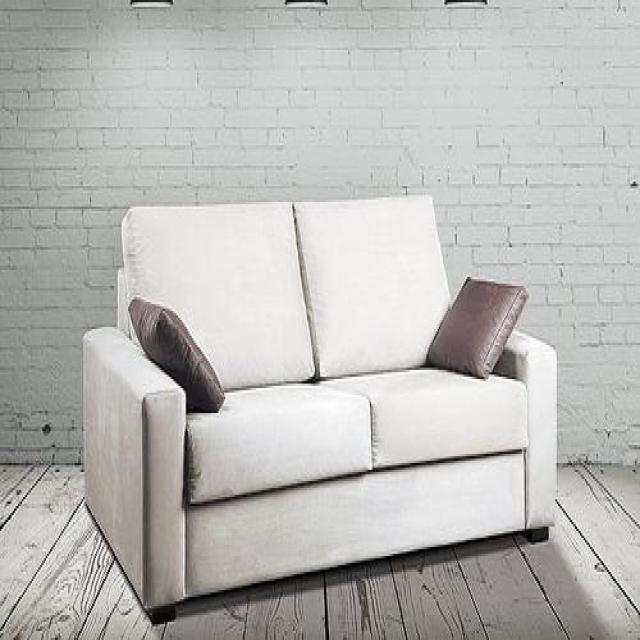sofa: (80, 191, 565, 631)
